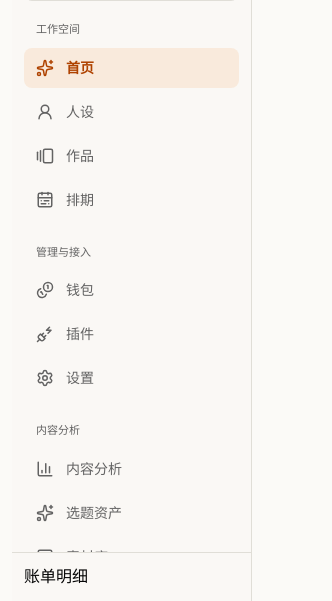
Test case: Sidebar › navigates directly to settings from the sidebar
This screenshot has width=332, height=601.
Step 1. Click the link "设置" → (65, 378), box [36,369,94,387]
(page scrolled)
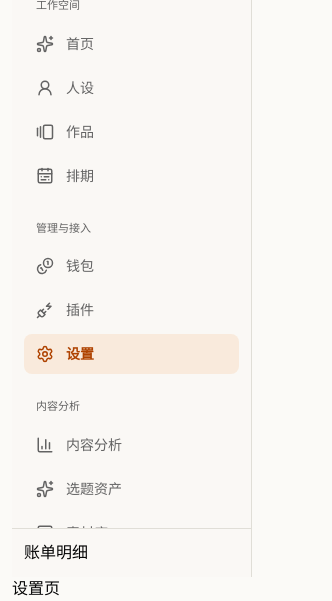
expect the heading "设置页" is shown: met, box [12,580,60,597]
